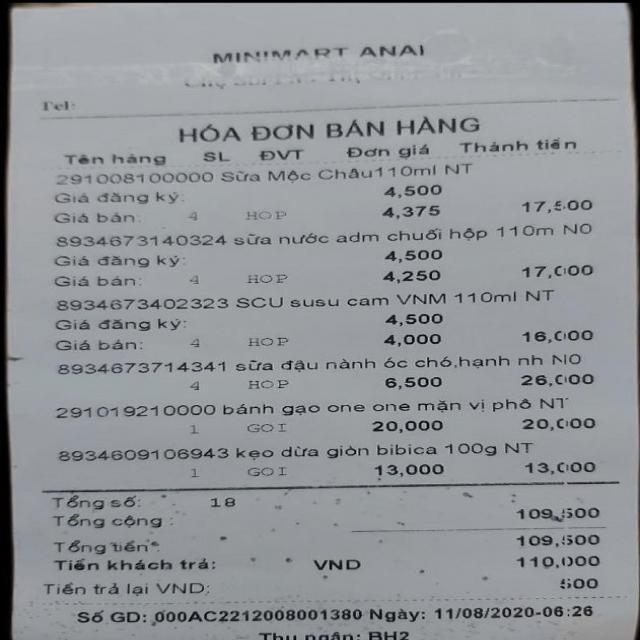Date: (430, 602, 537, 623)
Store_Name: (190, 36, 449, 64)
amount_number: (513, 530, 608, 550)
label_total: (51, 536, 158, 558)
